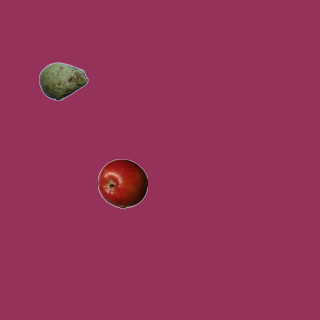Apple Braeburn: (97, 158, 147, 208)
Pear Stone: (38, 56, 88, 106)
